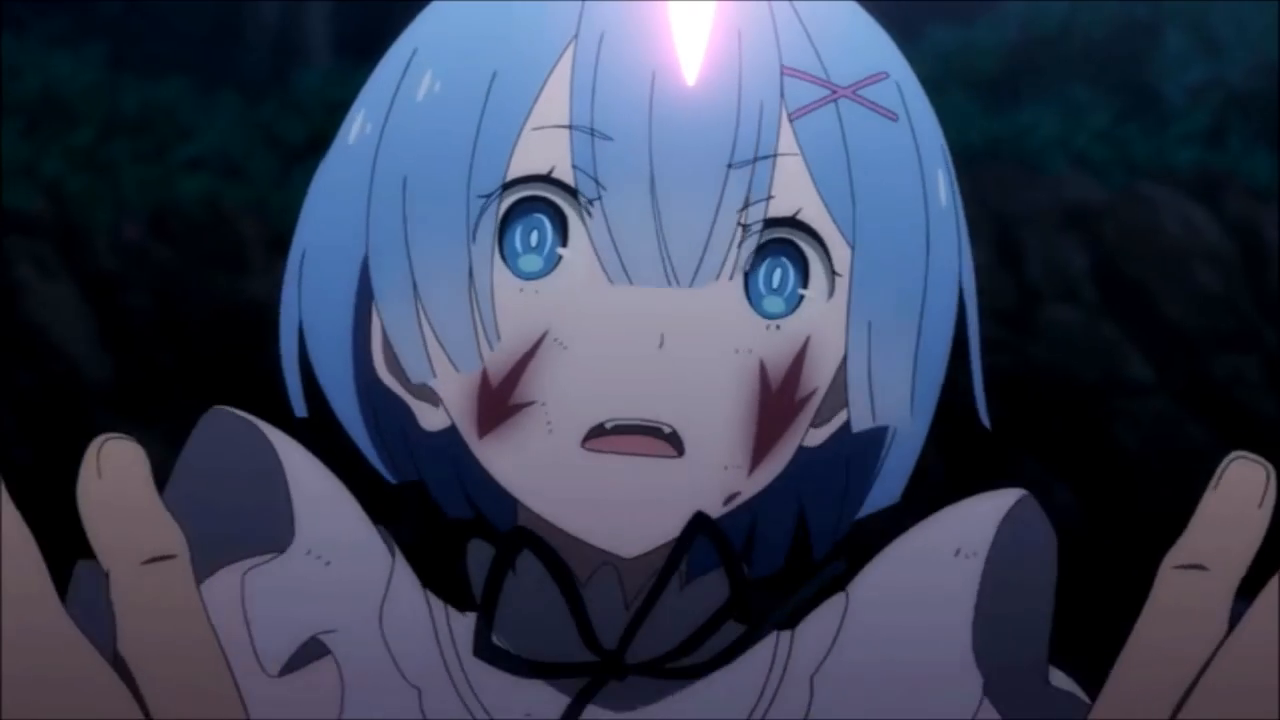REM: (271, 1, 1006, 556)
